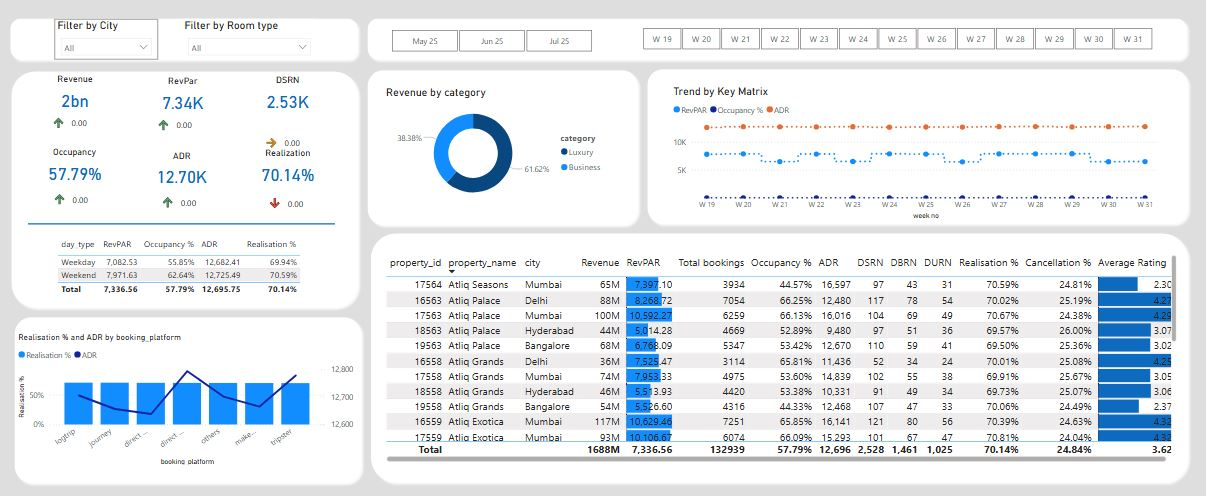

The page's visual inventory and layout, read from the dashboard file:
{"tool":"powerbi","page":{"name":"Dashboard","canvas":[1920,1080],"ordinal":0},"visuals":[{"type":"shape","box":[580,406.7,1300,406.7],"z":0},{"type":"shape","box":[20.4,539.1,560,275.7],"z":1000},{"type":"shape","box":[15,151.7,560,386.7],"z":2000},{"type":"shape","box":[575,150,440,258.3],"z":3000},{"type":"shape","box":[1015,148.3,865,258.3],"z":4000},{"type":"shape","box":[12.5,68.8,561.2,80],"z":5000},{"type":"shape","box":[575,68.3,1303.3,80],"z":6000},{"type":"tableEx","fields":{"Values":["dim_hotels.property_id","dim_hotels.property_name","dim_hotels.city","Key_mesures table.Revenue","Key_mesures table.RevPAR","Key_mesures table.Total bookings","Key_mesures table.Occupancy %","Key_mesures table.ADR","Key_mesures table.DSRN","Key_mesures table.DBRN","Key_mesures table.DURN","Key_mesures table.Realisation %"]},"box":[606.7,443.3,1226.7,335],"z":7000},{"type":"slicer","title":"Filter by City","fields":{"Values":["dim_hotels.city"]},"box":[90,76.7,163.3,65],"z":8000},{"type":"slicer","title":"Filter by Room type","fields":{"Values":["dim_rooms.room_class"]},"box":[290,76.7,213.3,65],"z":9000},{"type":"slicer","title":"Filter by Dates","fields":{"Values":["dim_date.mmm yy"]},"box":[595,88.3,365,46.7],"z":10000},{"type":"slicer","title":"Filter by Week No","fields":{"Values":["dim_date.week no"]},"box":[990,85,850,46.7],"z":11000},{"type":"tableEx","fields":{"Values":["Key_mesures table.Revenue WoW change %"]},"box":[81.2,204.1,81.2,55],"z":12000},{"type":"card","title":"Revenue","fields":{"Values":["Key_mesures table.Revenue"]},"box":[47.5,164.1,148.8,66.2],"z":13000},{"type":"tableEx","fields":{"Values":["Key_mesures table.Revpar WoW change %"]},"box":[247.3,206.1,81.2,55],"z":14000},{"type":"card","title":"RevPar","fields":{"Values":["Key_mesures table.RevPAR"]},"box":[218.6,166.1,147.5,66.2],"z":15000},{"type":"tableEx","fields":{"Values":["Key_mesures table.DSRN WoW change %"]},"box":[416.5,234.6,81.2,55],"z":16000},{"type":"card","title":"DSRN","fields":{"Values":["Key_mesures table.DSRN"]},"box":[384,165,147.5,66.2],"z":17000},{"type":"tableEx","fields":{"Values":["Key_mesures table.Occupancy WoW change %"]},"box":[82.5,324.1,81.2,55],"z":18000},{"type":"card","title":"Occupancy","fields":{"Values":["Key_mesures table.Occupancy %"]},"box":[47.5,279.1,147.5,66.2],"z":19000},{"type":"tableEx","fields":{"Values":["Key_mesures table.ADR WoW change %"]},"box":[252.5,329.1,81.2,55],"z":20000},{"type":"card","title":"ADR","fields":{"Values":["Key_mesures table.ADR"]},"box":[216.8,282.9,147.5,66.2],"z":21000},{"type":"tableEx","fields":{"Values":["Key_mesures table.Realisation WoW change %"]},"box":[421.5,329.3,81.2,55],"z":22000},{"type":"card","title":"Realization","fields":{"Values":["Key_mesures table.Realisation %"]},"box":[384,280.6,147.5,66.2],"z":23000},{"type":"donutChart","fields":{"Category":["dim_hotels.category"],"Y":["Key_mesures table.Revenue"]},"box":[606.7,181.7,358.3,193.3],"z":24000},{"type":"lineChart","title":"Trend by Key Matrix","fields":{"Category":["dim_date.week no","dim_date.wn"],"Y":["Key_mesures table.RevPAR","Key_mesures table.Occupancy %","Key_mesures table.ADR"]},"box":[1058.3,180,775,216.7],"z":25000},{"type":"lineStackedColumnComboChart","fields":{"Category":["fact_bookings.booking_platform"],"Y":["Key_mesures table.Realisation %"],"Y2":["Key_mesures table.ADR"]},"box":[29,570.5,537.1,212.9],"z":26000},{"type":"tableEx","fields":{"Values":["dim_date.day_type","Key_mesures table.RevPAR","Key_mesures table.Occupancy %","Key_mesures table.ADR","Key_mesures table.Realisation %"]},"box":[90,415,405,110],"z":27000},{"type":"shape","box":[48.3,391.7,483.3,15],"z":28000}]}

Visuals, with their boxes on the page's 1920x1080 design canvas (x1, y1, x2, y2). These are canvas units, not pixel positions in the 1206x496 screenshot, which may show the page scaled, cropped or inside an application window:
shape: 580 407 1880 813
shape: 20 539 580 815
shape: 15 152 575 538
shape: 575 150 1015 408
shape: 1015 148 1880 407
shape: 12 69 574 149
shape: 575 68 1878 148
tableEx - dim_hotels.property_id x dim_hotels.property_name: 607 443 1833 778
"Filter by City" slicer: 90 77 253 142
"Filter by Room type" slicer: 290 77 503 142
"Filter by Dates" slicer: 595 88 960 135
"Filter by Week No" slicer: 990 85 1840 132
tableEx - Key_mesures table.Revenue WoW change %: 81 204 162 259
"Revenue" card: 48 164 196 230
tableEx - Key_mesures table.Revpar WoW change %: 247 206 328 261
"RevPar" card: 219 166 366 232
tableEx - Key_mesures table.DSRN WoW change %: 416 235 498 290
"DSRN" card: 384 165 532 231
tableEx - Key_mesures table.Occupancy WoW change %: 82 324 164 379
"Occupancy" card: 48 279 195 345
tableEx - Key_mesures table.ADR WoW change %: 252 329 334 384
"ADR" card: 217 283 364 349
tableEx - Key_mesures table.Realisation WoW change %: 422 329 503 384
"Realization" card: 384 281 532 347
donutChart - dim_hotels.category x Key_mesures table.Revenue: 607 182 965 375
"Trend by Key Matrix" lineChart: 1058 180 1833 397
lineStackedColumnComboChart - fact_bookings.booking_platform x Key_mesures table.Realisation %: 29 570 566 783
tableEx - dim_date.day_type x Key_mesures table.RevPAR: 90 415 495 525
shape: 48 392 532 407
